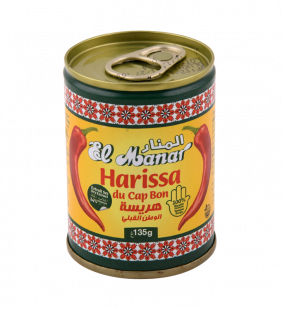EL MANAR: (57, 25, 222, 285)
